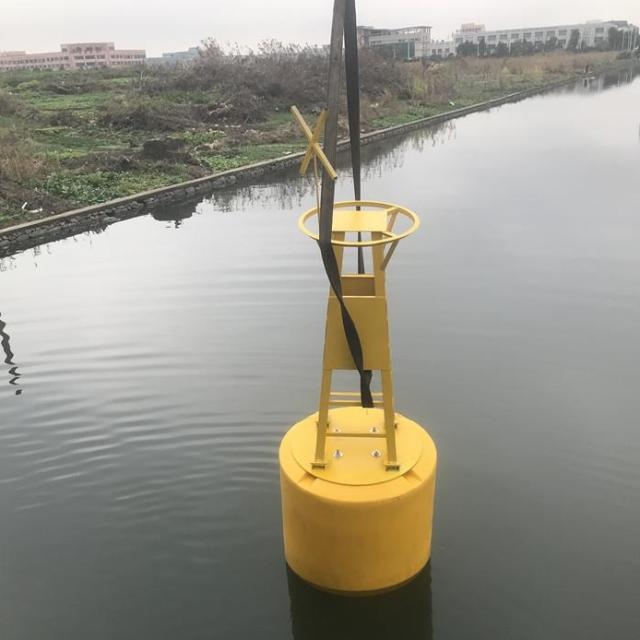buoy: (270, 98, 436, 599)
